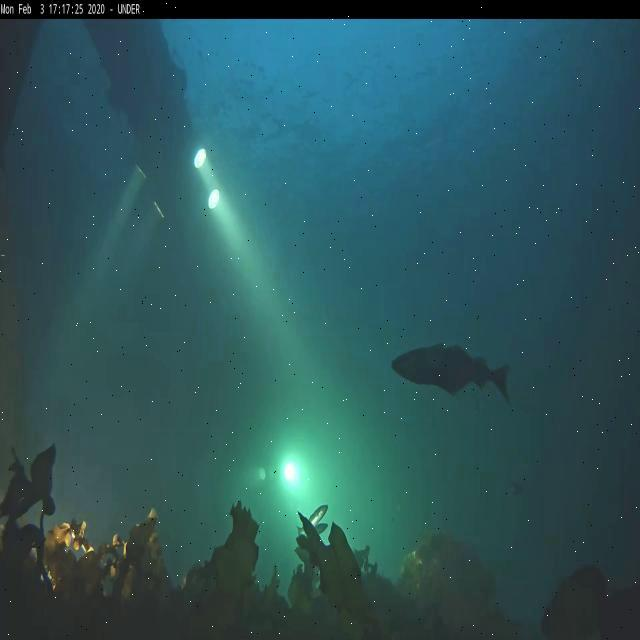fish: (393, 343, 511, 404), (310, 504, 326, 524), (312, 526, 328, 534)
